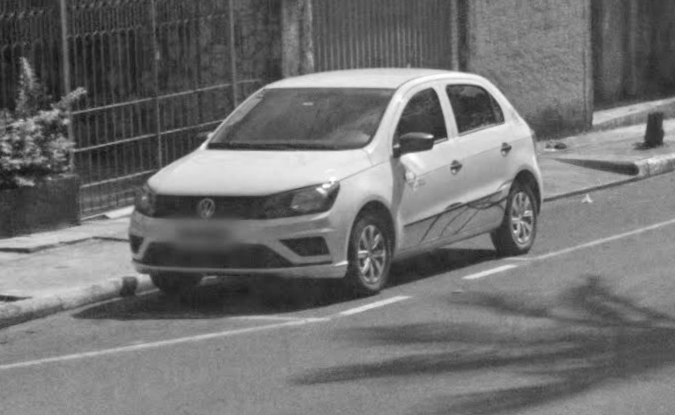car: (128, 66, 545, 297)
